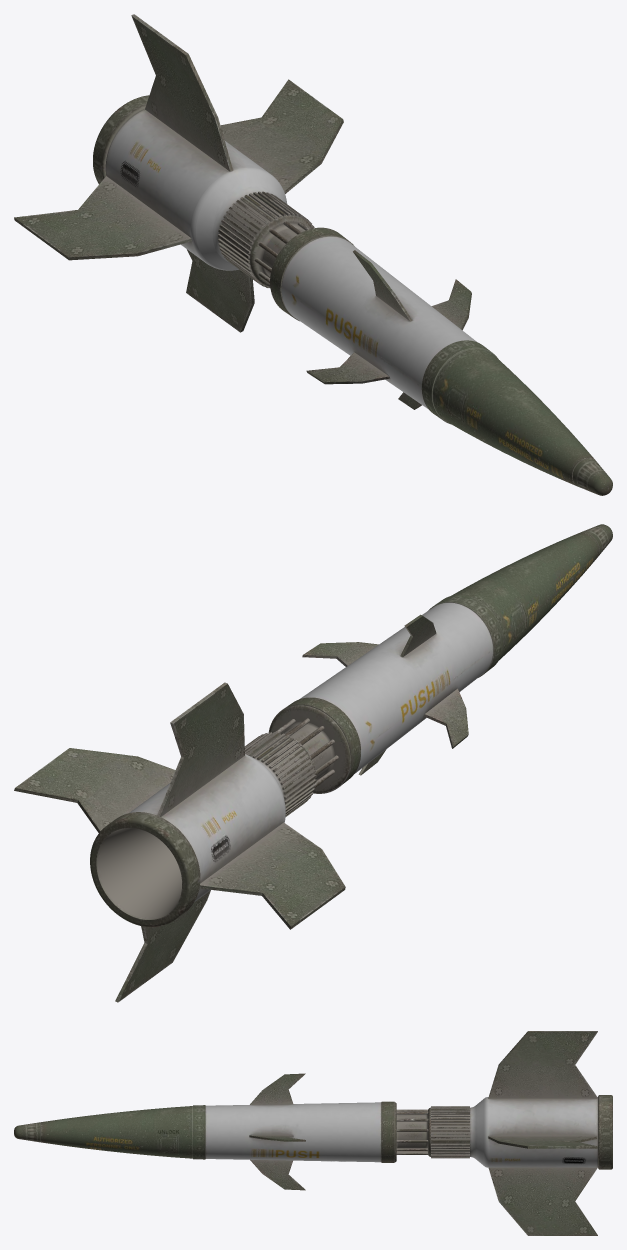
Rendered from amateur_rocketry.glb.
3 views of the same model, one above another, from view 1: azimuth 30°, elevation 25°; view 2: azimuth 150°, elevation 25°; view 3: azimuth 270°, elevation 25° (orthographic). The views are drawn at different scales.
Parts seen in each view (by area): view 1: Object_2; view 2: Object_2; view 3: Object_2.
Boxes of the visible parts, left/top/right/bottom form: Object_2: left=14, top=14, right=612, bottom=495; Object_2: left=14, top=524, right=612, bottom=1002; Object_2: left=14, top=1031, right=612, bottom=1235.
Bounding box in the file's own units: 289 × 292 × 845.
1 material, 1 textured.
